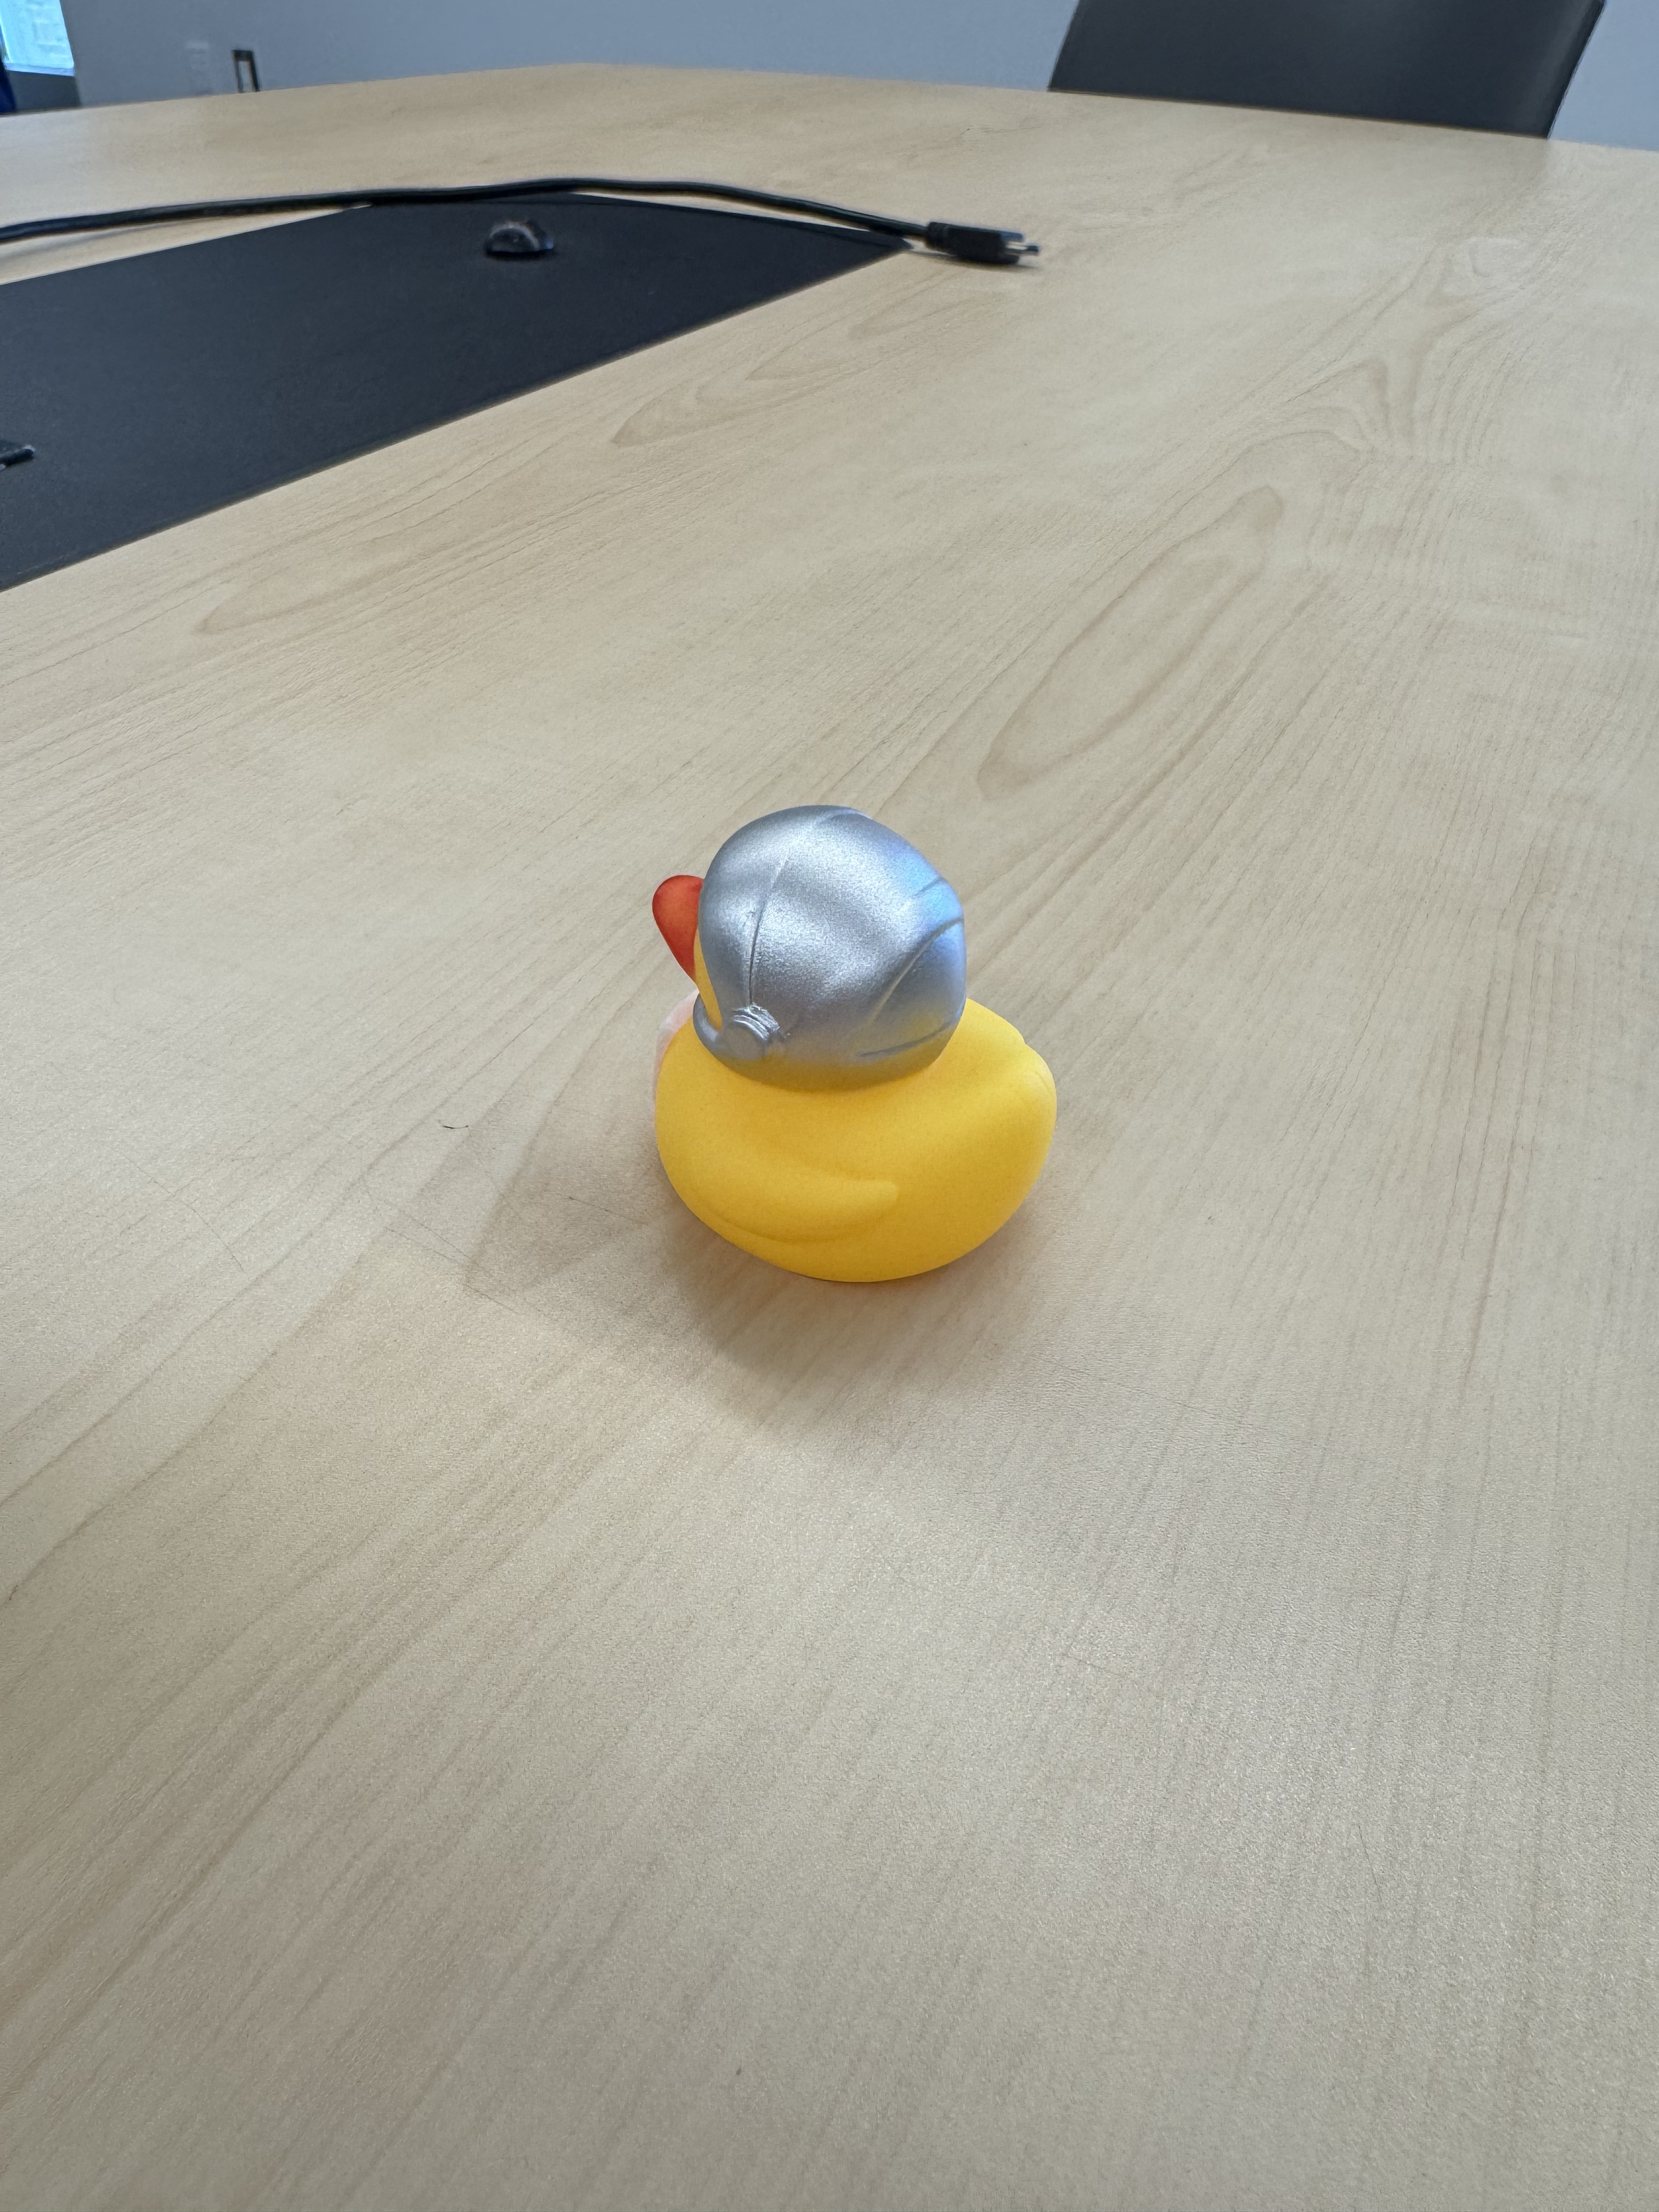duck_specialty: (648, 787, 1075, 1280)
